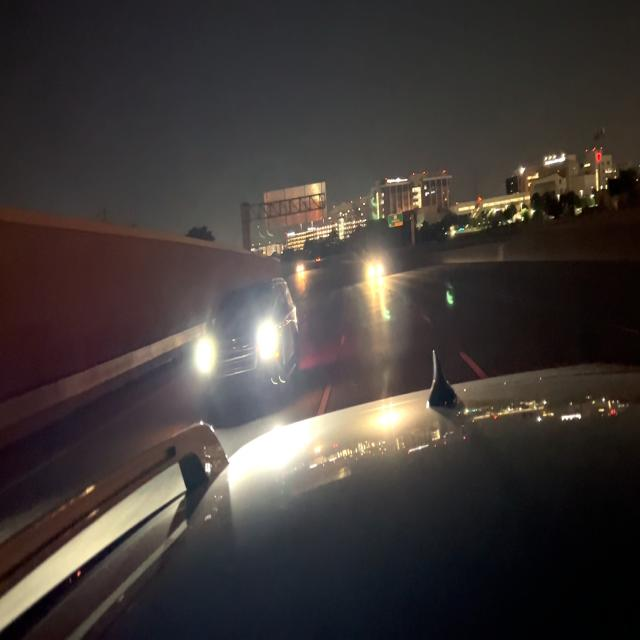back-of-sign: (266, 184, 329, 229)
